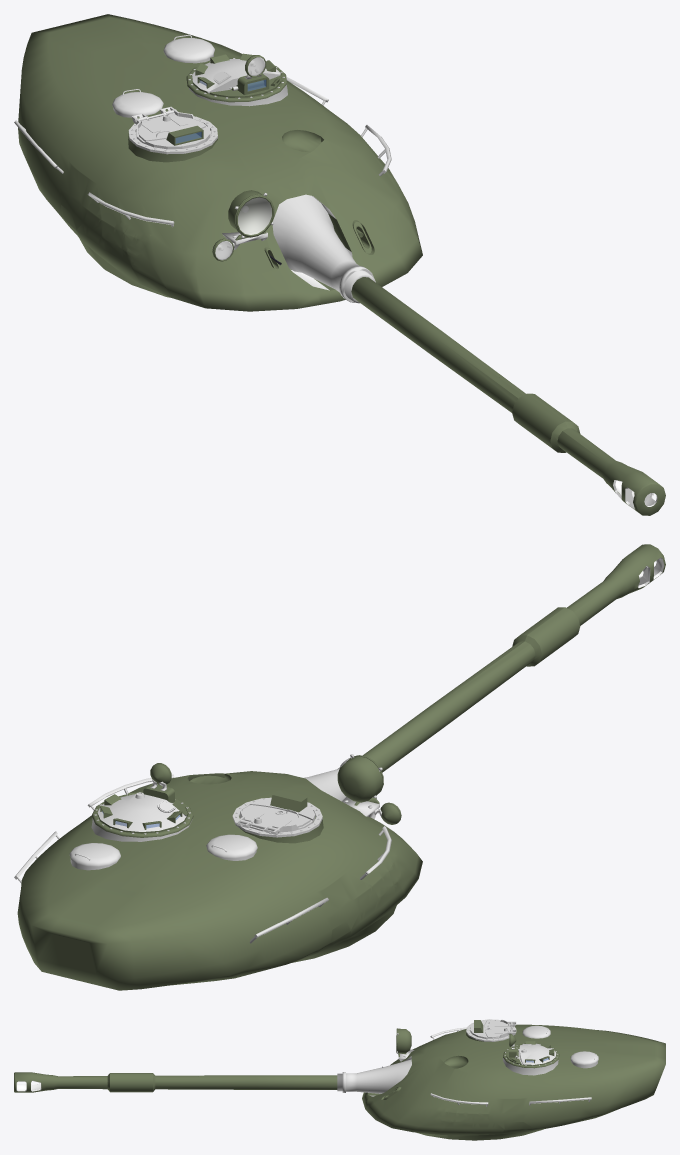
Rendered from Snipper.FBX.
The picture shows the model from 3 angles, top to bottom: view 1: azimuth 30°, elevation 25°; view 2: azimuth 150°, elevation 25°; view 3: azimuth 270°, elevation 25°; orthographic projection. The views are drawn at different scales.
Parts seen in each view (by area): view 1: Layer0_001, Group_003, Component#117_001, Group_013, Component#108_001, Group_008, Component#94_001, Component#94_002, Group_012; view 2: Layer0_001, Component#117_001, Group_008, Group_013, Component#108_001, Component#94_001, Component#94_002, Group_012, Group_003; view 3: Layer0_001, Group_003, Component#117_001, Group_008, Component#108_001, Component#94_001, Group_007, Group_011, Group_013, Component#94_002.
Boxes of the visible parts, left/top/right/bottom form: Layer0_001: left=18, top=14, right=665, bottom=515; Group_003: left=272, top=194, right=375, bottom=303; Component#117_001: left=128, top=106, right=217, bottom=154; Group_013: left=228, top=190, right=274, bottom=240; Component#108_001: left=186, top=58, right=286, bottom=102; Group_008: left=192, top=59, right=280, bottom=93; Component#94_001: left=163, top=38, right=214, bottom=63; Component#94_002: left=112, top=92, right=163, bottom=117; Group_012: left=14, top=120, right=174, bottom=226; Layer0_001: left=17, top=544, right=665, bottom=990; Component#117_001: left=232, top=797, right=322, bottom=837; Group_008: left=97, top=794, right=186, bottom=831; Group_013: left=337, top=755, right=383, bottom=805; Component#108_001: left=92, top=783, right=193, bottom=837; Component#94_001: left=69, top=843, right=120, bottom=870; Component#94_002: left=206, top=834, right=257, bottom=860; Group_012: left=249, top=826, right=391, bottom=943; Group_003: left=304, top=757, right=350, bottom=801; Layer0_001: left=14, top=1024, right=665, bottom=1140; Group_003: left=337, top=1059, right=411, bottom=1093; Component#117_001: left=466, top=1019, right=516, bottom=1041; Group_008: left=518, top=1044, right=556, bottom=1064; Component#108_001: left=503, top=1043, right=559, bottom=1068; Component#94_001: left=570, top=1051, right=598, bottom=1068; Group_007: left=503, top=1058, right=558, bottom=1075; Group_011: left=430, top=1093, right=591, bottom=1106; Group_013: left=396, top=1028, right=411, bottom=1056; Component#94_002: left=522, top=1025, right=550, bottom=1038.
Size of the model in its own units: 158 by 78.47 by 564.
